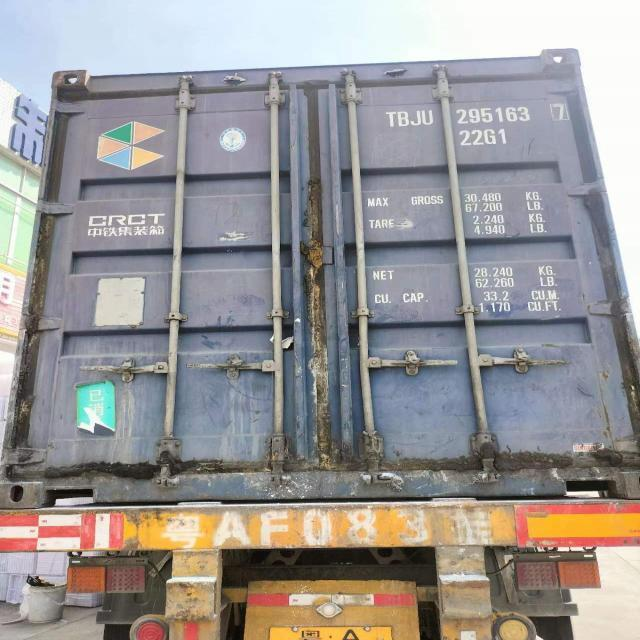ISO: (460, 128, 510, 148)
container_number: (387, 100, 572, 126)
